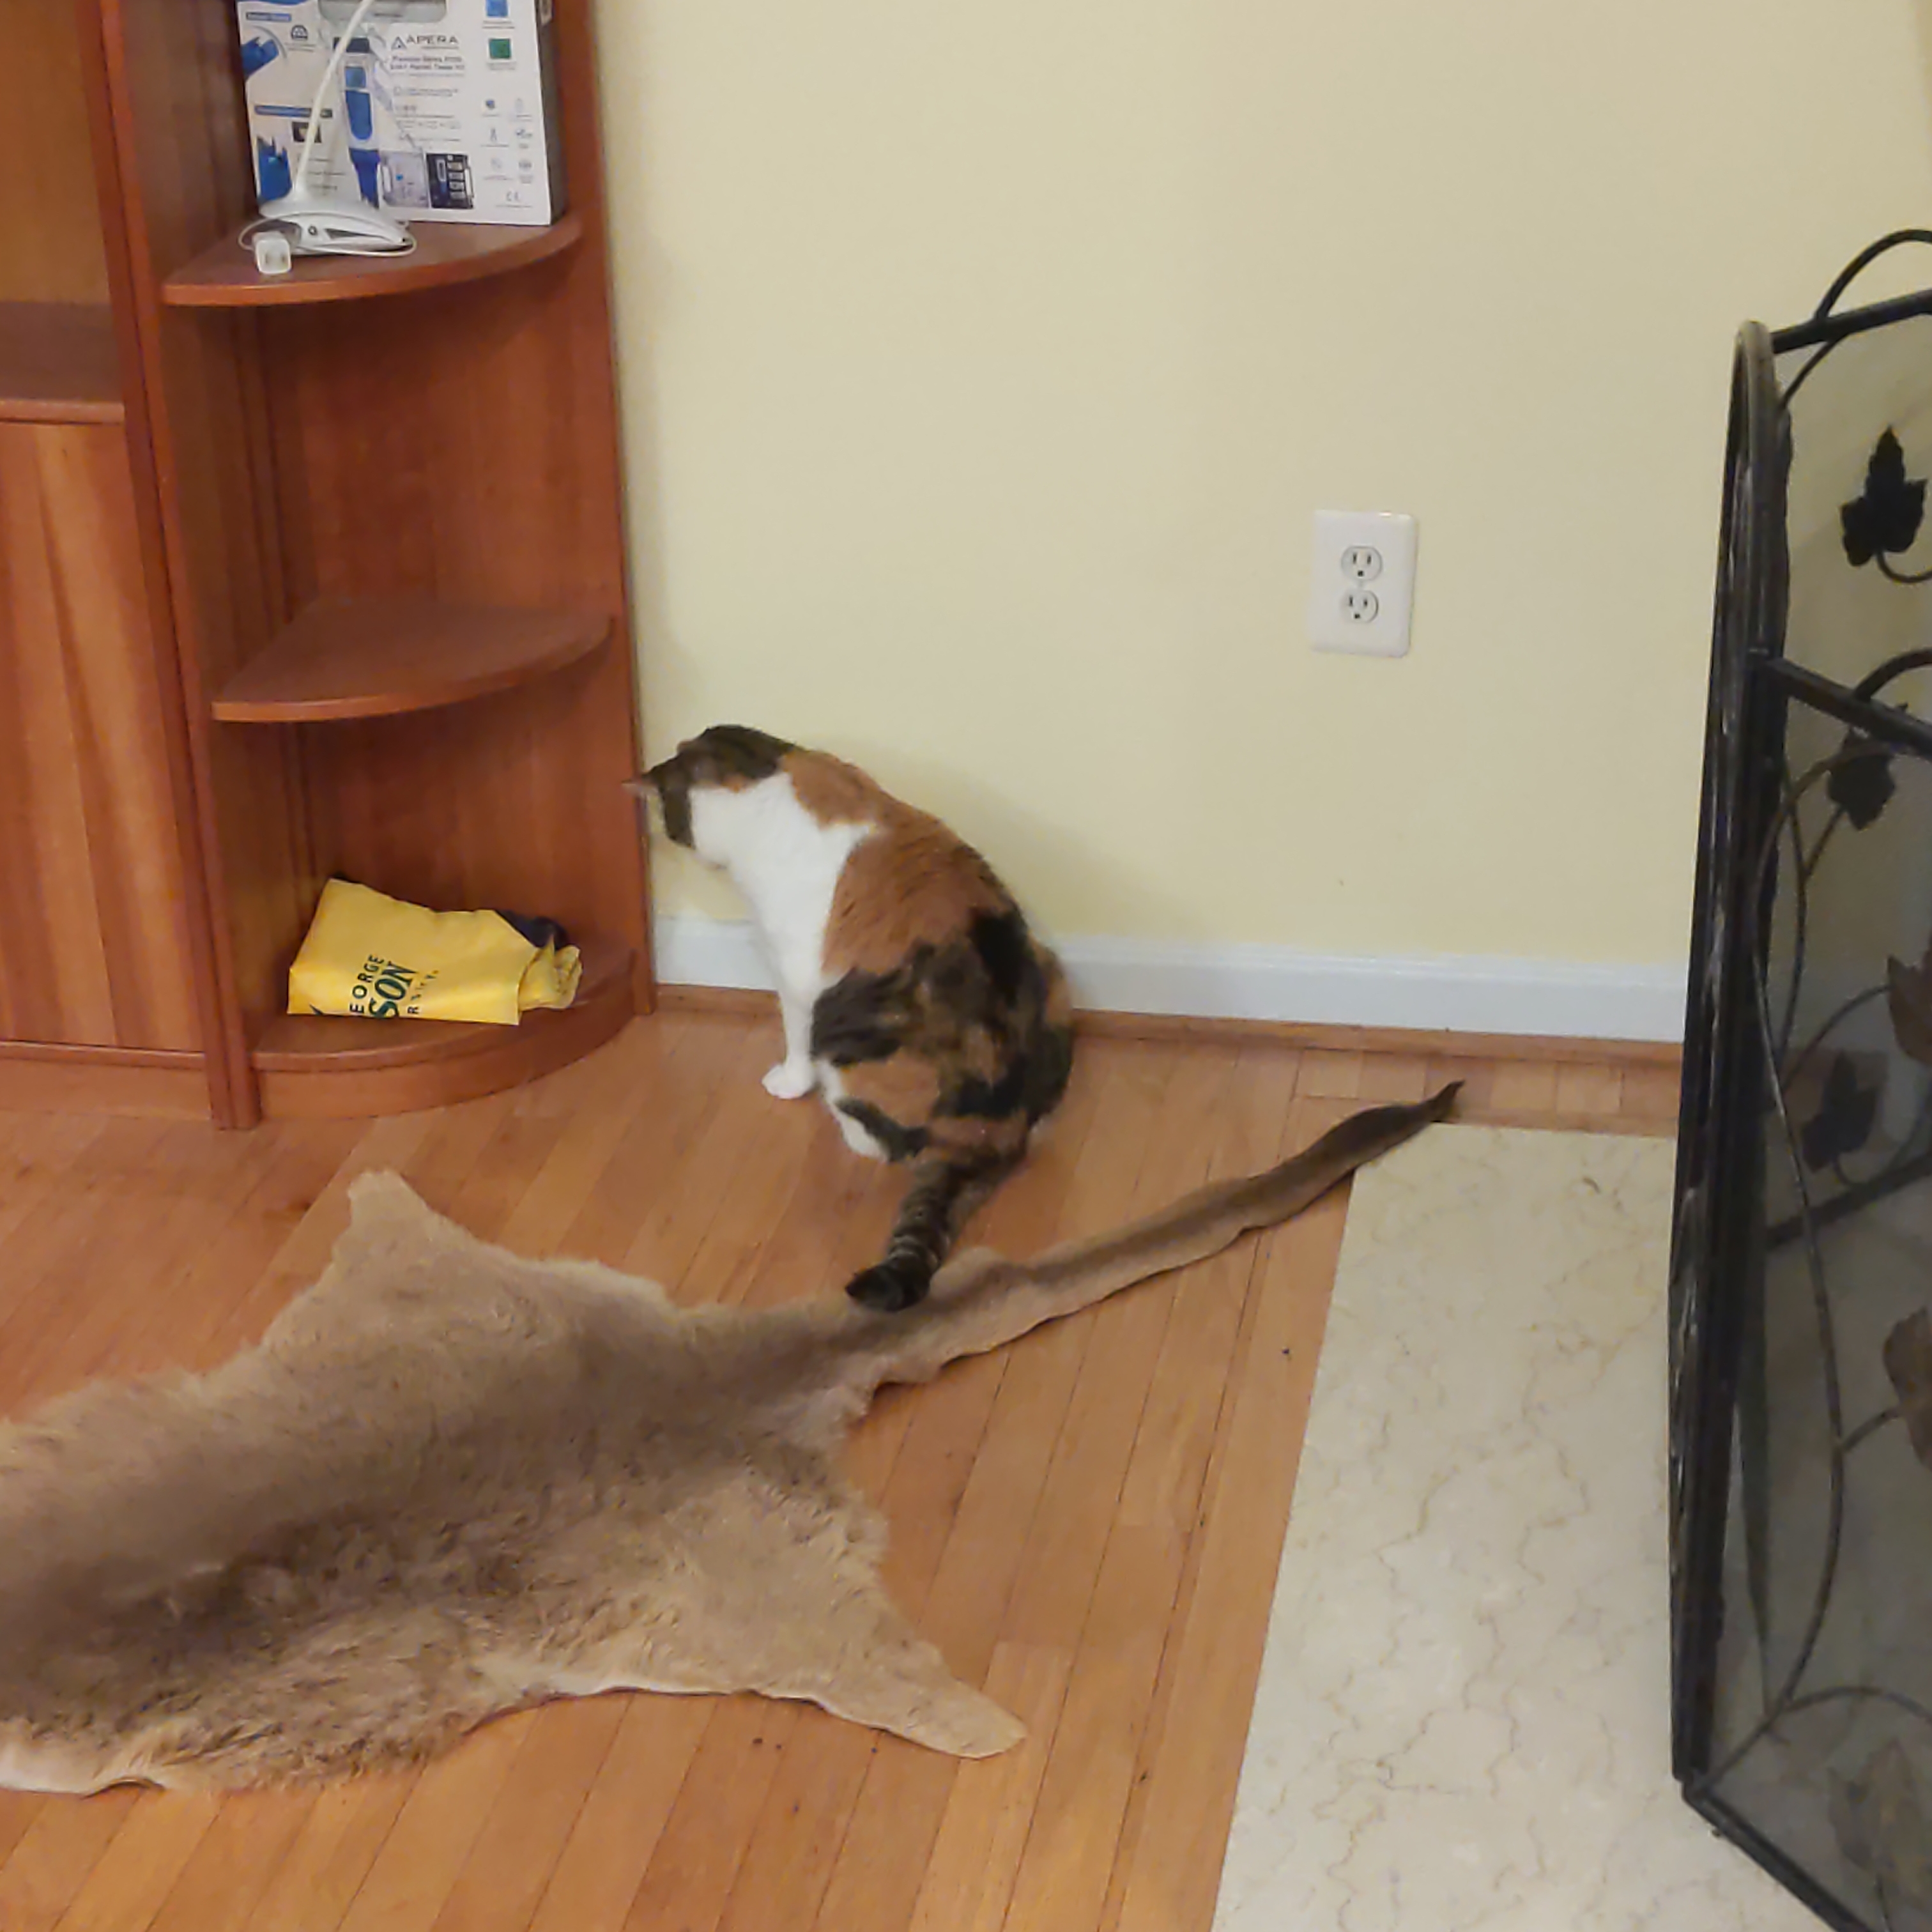Calico: (619, 722, 1074, 1311)
